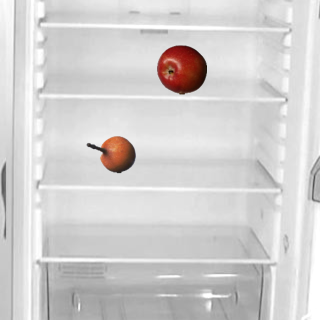Apple Braeburn: (156, 44, 206, 94)
Granadilla: (85, 129, 135, 179)
